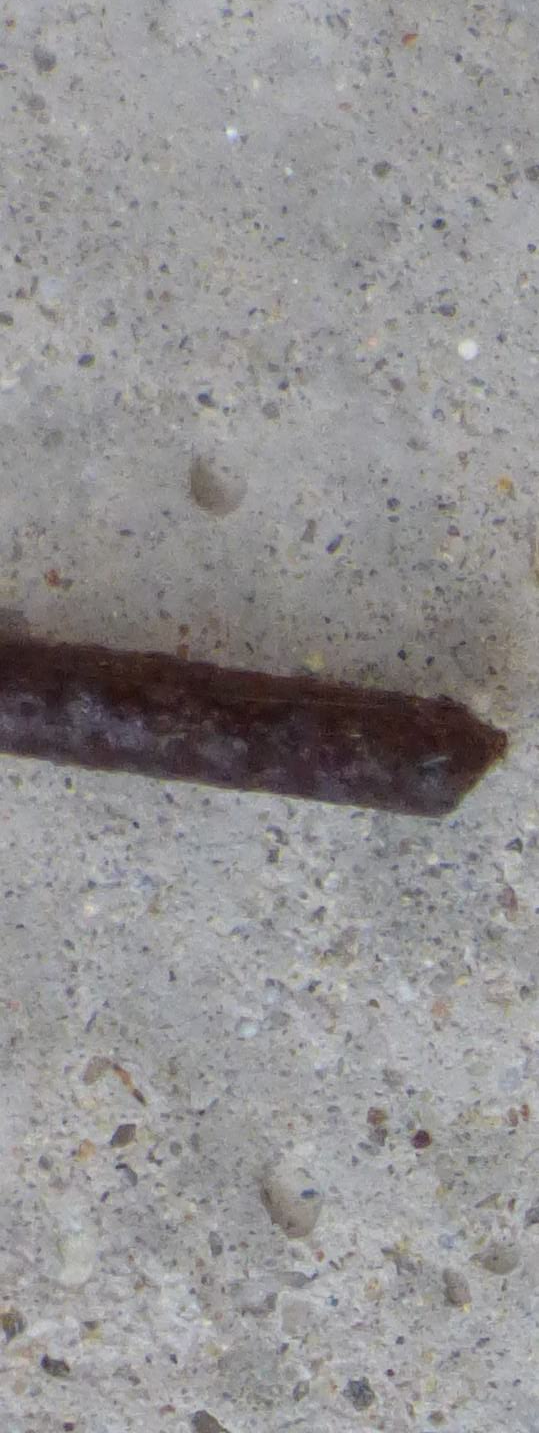Exposed reinforcement: (1, 634, 509, 820)
